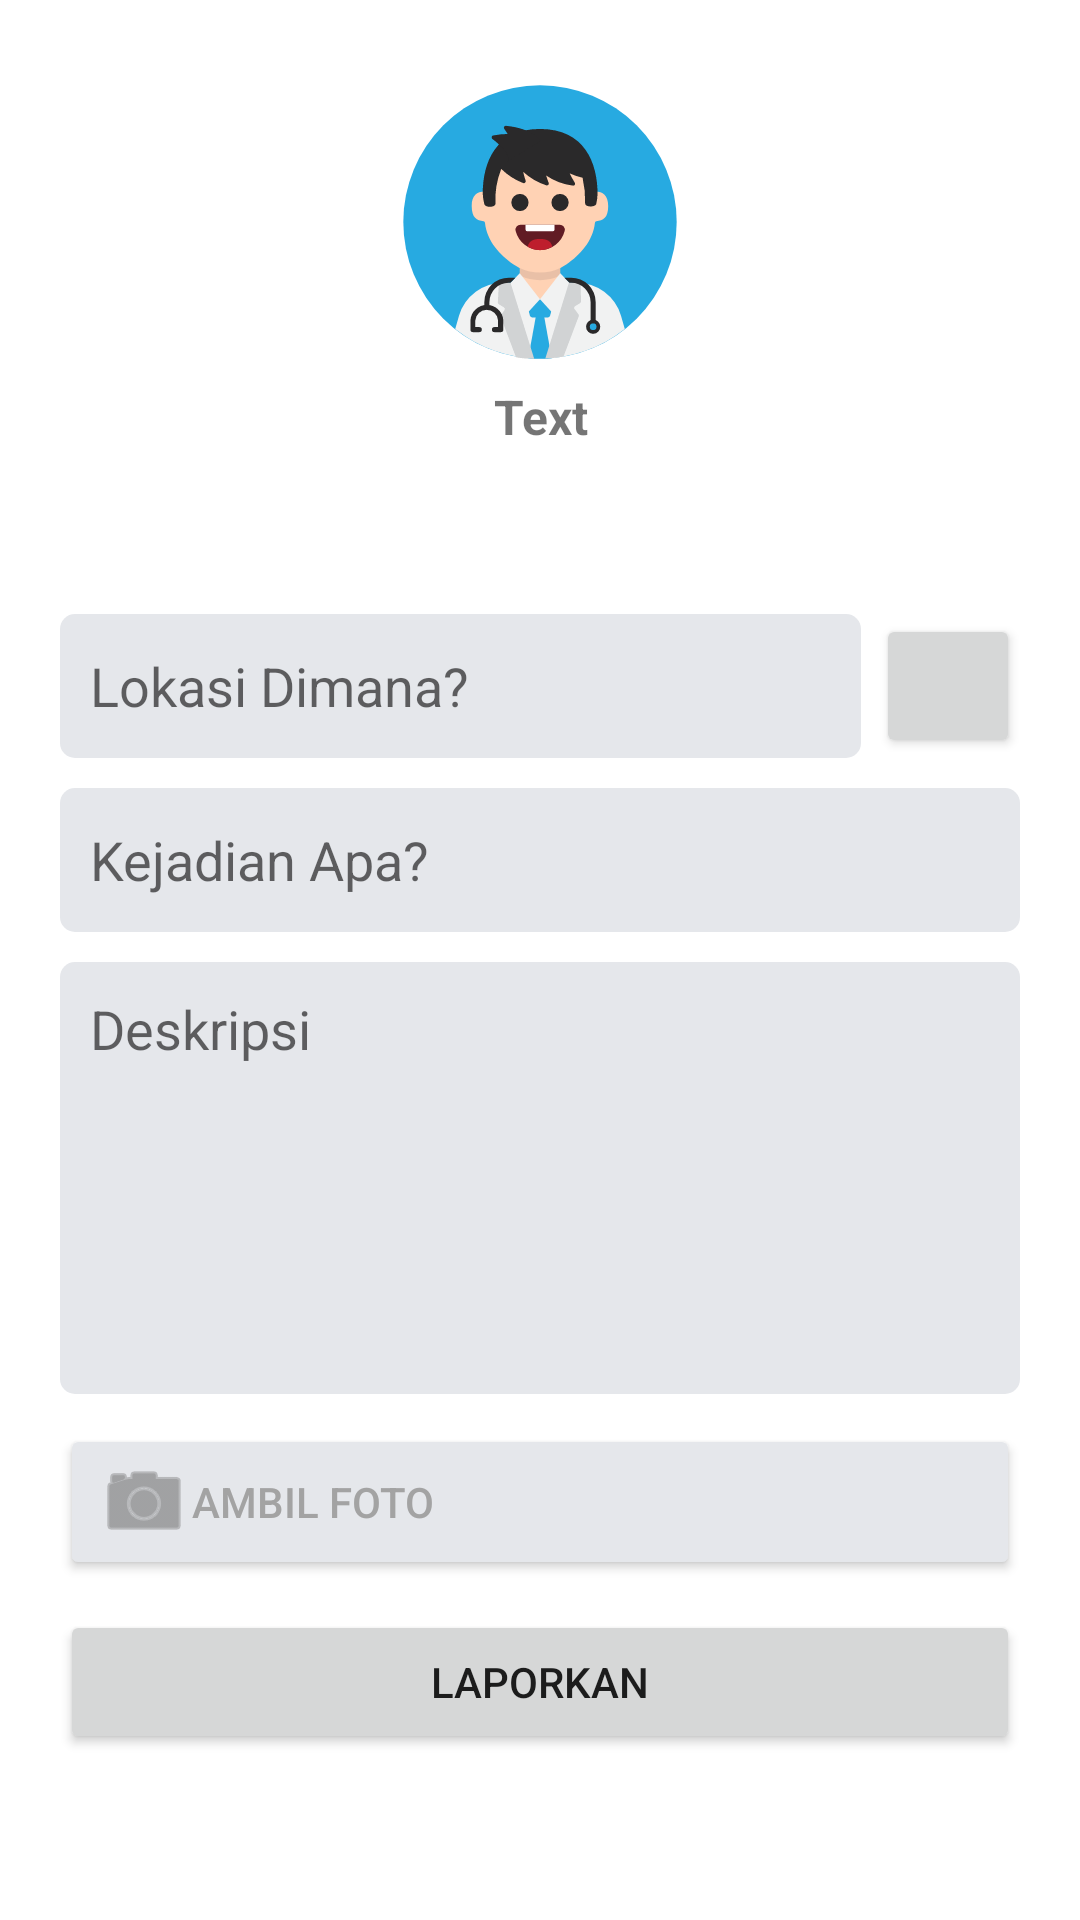

Screen size 1080 × 1920. Icon name, then its center in pixels as (x,y):
doctor: (540,222)
